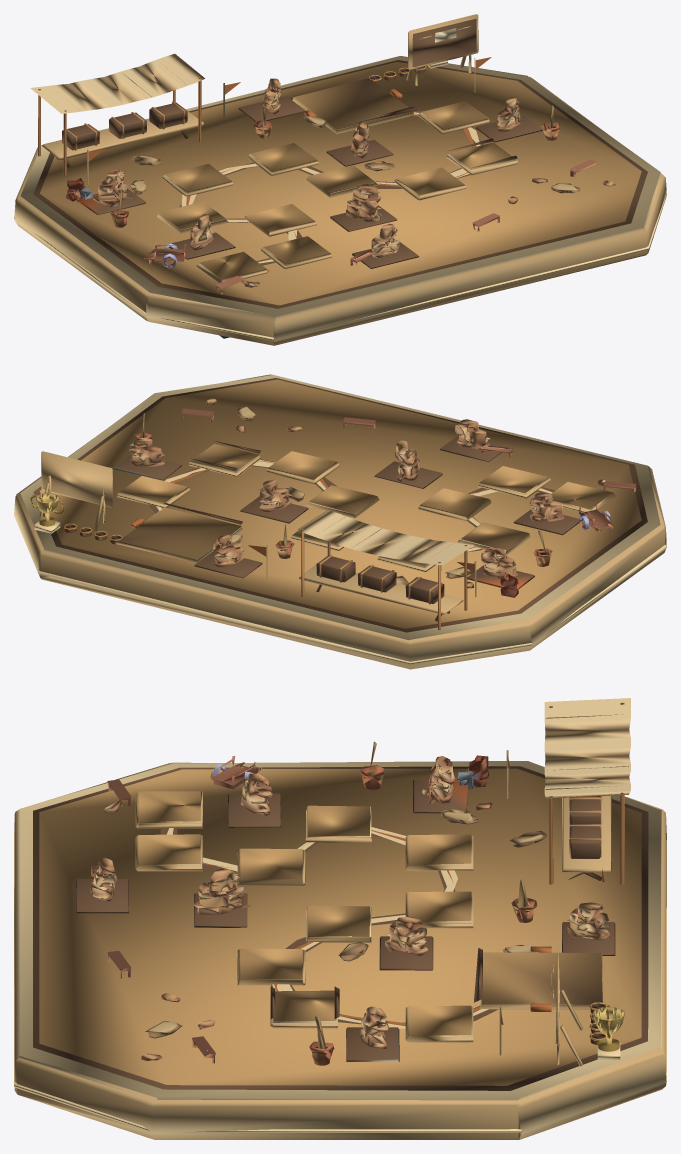
The model's file is sahrun.far.glb.
3 views of the same model, one above another, from view 1: azimuth 30°, elevation 25°; view 2: azimuth 150°, elevation 25°; view 3: azimuth 270°, elevation 25° (orthographic). The views are drawn at different scales.
Parts seen in each view (by area): view 1: Static tournament table • material batches; view 2: Static tournament table • material batches; view 3: Static tournament table • material batches.
Part boxes in pixels (box(x1,y1,x2,y2)): Static tournament table • material batches: box(14, 14, 666, 345); Static tournament table • material batches: box(14, 374, 666, 669); Static tournament table • material batches: box(14, 698, 666, 1139).
Size of the model in its own units: 24.06 by 5.09 by 19.34.
